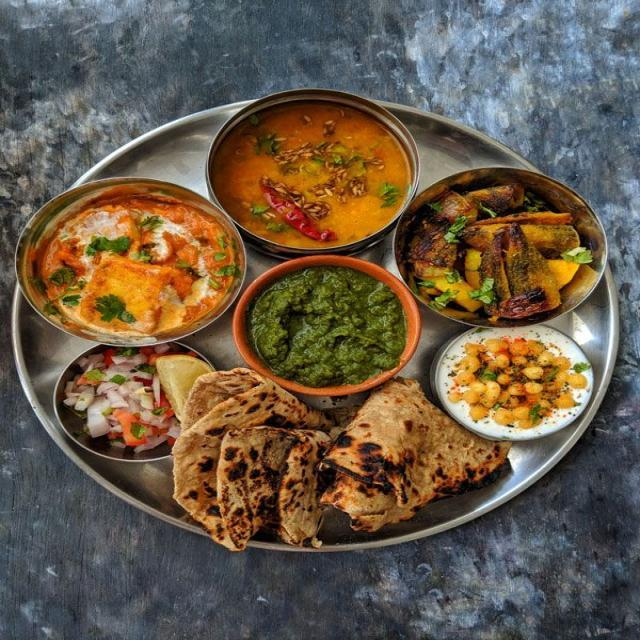dal: (202, 88, 424, 257)
raita: (431, 323, 600, 450)
roti: (155, 371, 473, 552)
veg: (50, 191, 239, 340)
veg-fry: (395, 172, 617, 332)
